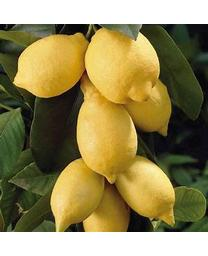lemon: (76, 93, 139, 183), (86, 29, 160, 103), (13, 36, 88, 98), (119, 156, 176, 224), (51, 159, 103, 232)
